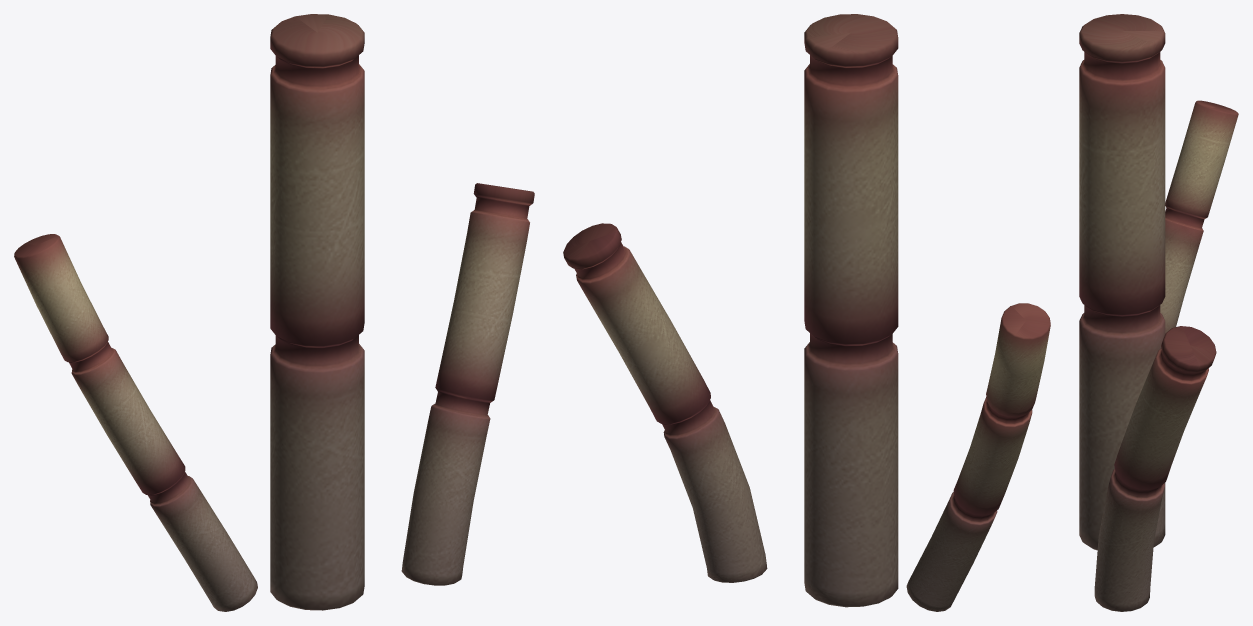
The model's file is SugarCane_Stage_1.fbx.
3 views of the same model, side by side, from view 1: azimuth 30°, elevation 25°; view 2: azimuth 150°, elevation 25°; view 3: azimuth 270°, elevation 25° (orthographic). The views are drawn at different scales.
Parts seen in each view (by area): view 1: Cylinder.010; view 2: Cylinder.010; view 3: Cylinder.010.
Part boxes in pixels (bbox=[...]): Cylinder.010: bbox=[14, 14, 534, 611]; Cylinder.010: bbox=[563, 14, 1050, 611]; Cylinder.010: bbox=[1079, 14, 1238, 611].
Size of the model in its own units: 70.33 by 77.27 by 21.51.
1 material, 1 textured.
